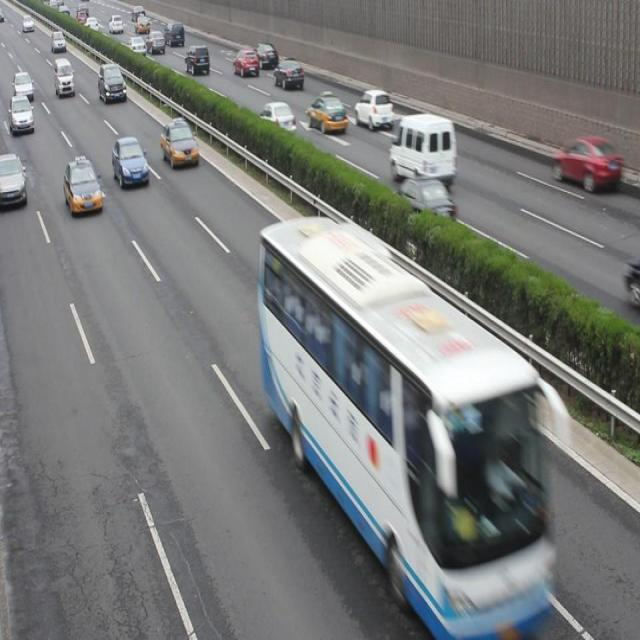car: (550, 136, 619, 193), (390, 175, 454, 223), (63, 157, 103, 216), (111, 137, 150, 190), (160, 119, 200, 169), (306, 91, 346, 133), (354, 88, 393, 130), (1, 151, 27, 206), (258, 101, 297, 136), (98, 62, 127, 102), (9, 95, 34, 135), (273, 58, 303, 88), (233, 48, 259, 78), (185, 45, 209, 74), (253, 42, 276, 68), (12, 72, 34, 99), (145, 30, 165, 53), (126, 36, 146, 56), (50, 32, 66, 52)
truck: (390, 112, 456, 188), (54, 59, 75, 97), (164, 21, 184, 45)
van: (259, 220, 566, 640)
